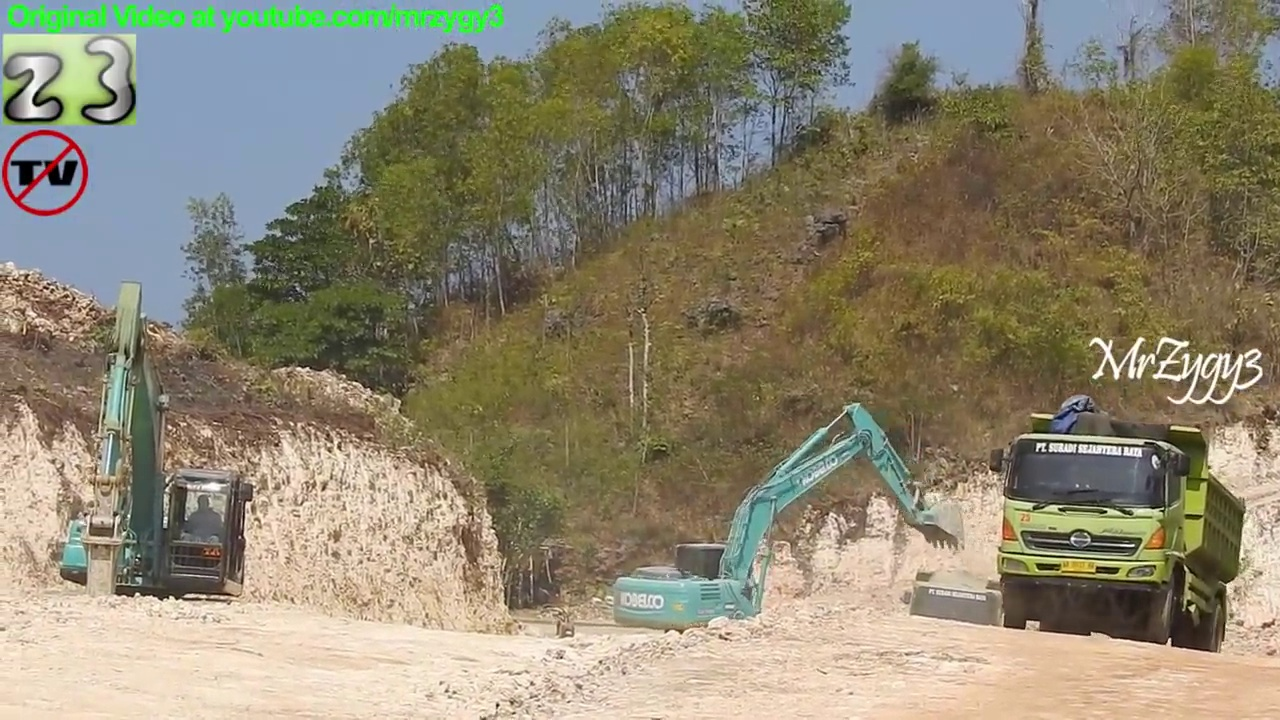excavator: (603, 395, 971, 667), (53, 276, 264, 640)
truck: (985, 407, 1250, 657), (896, 562, 1016, 681)
